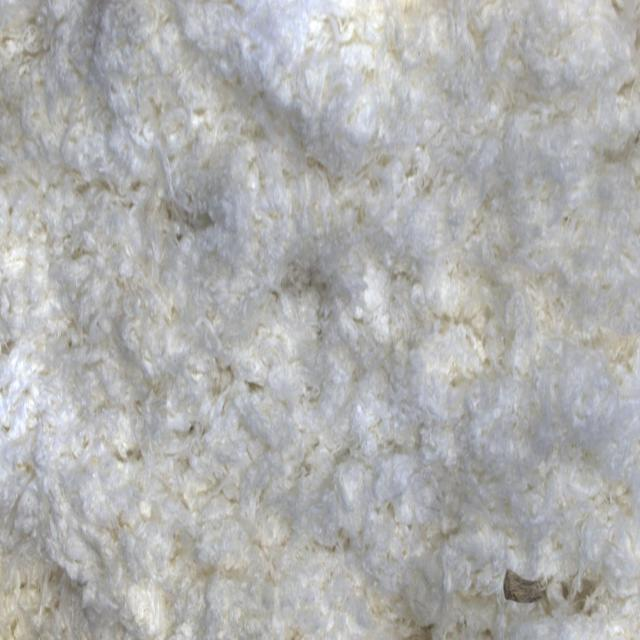dust: (477, 522, 565, 640)
